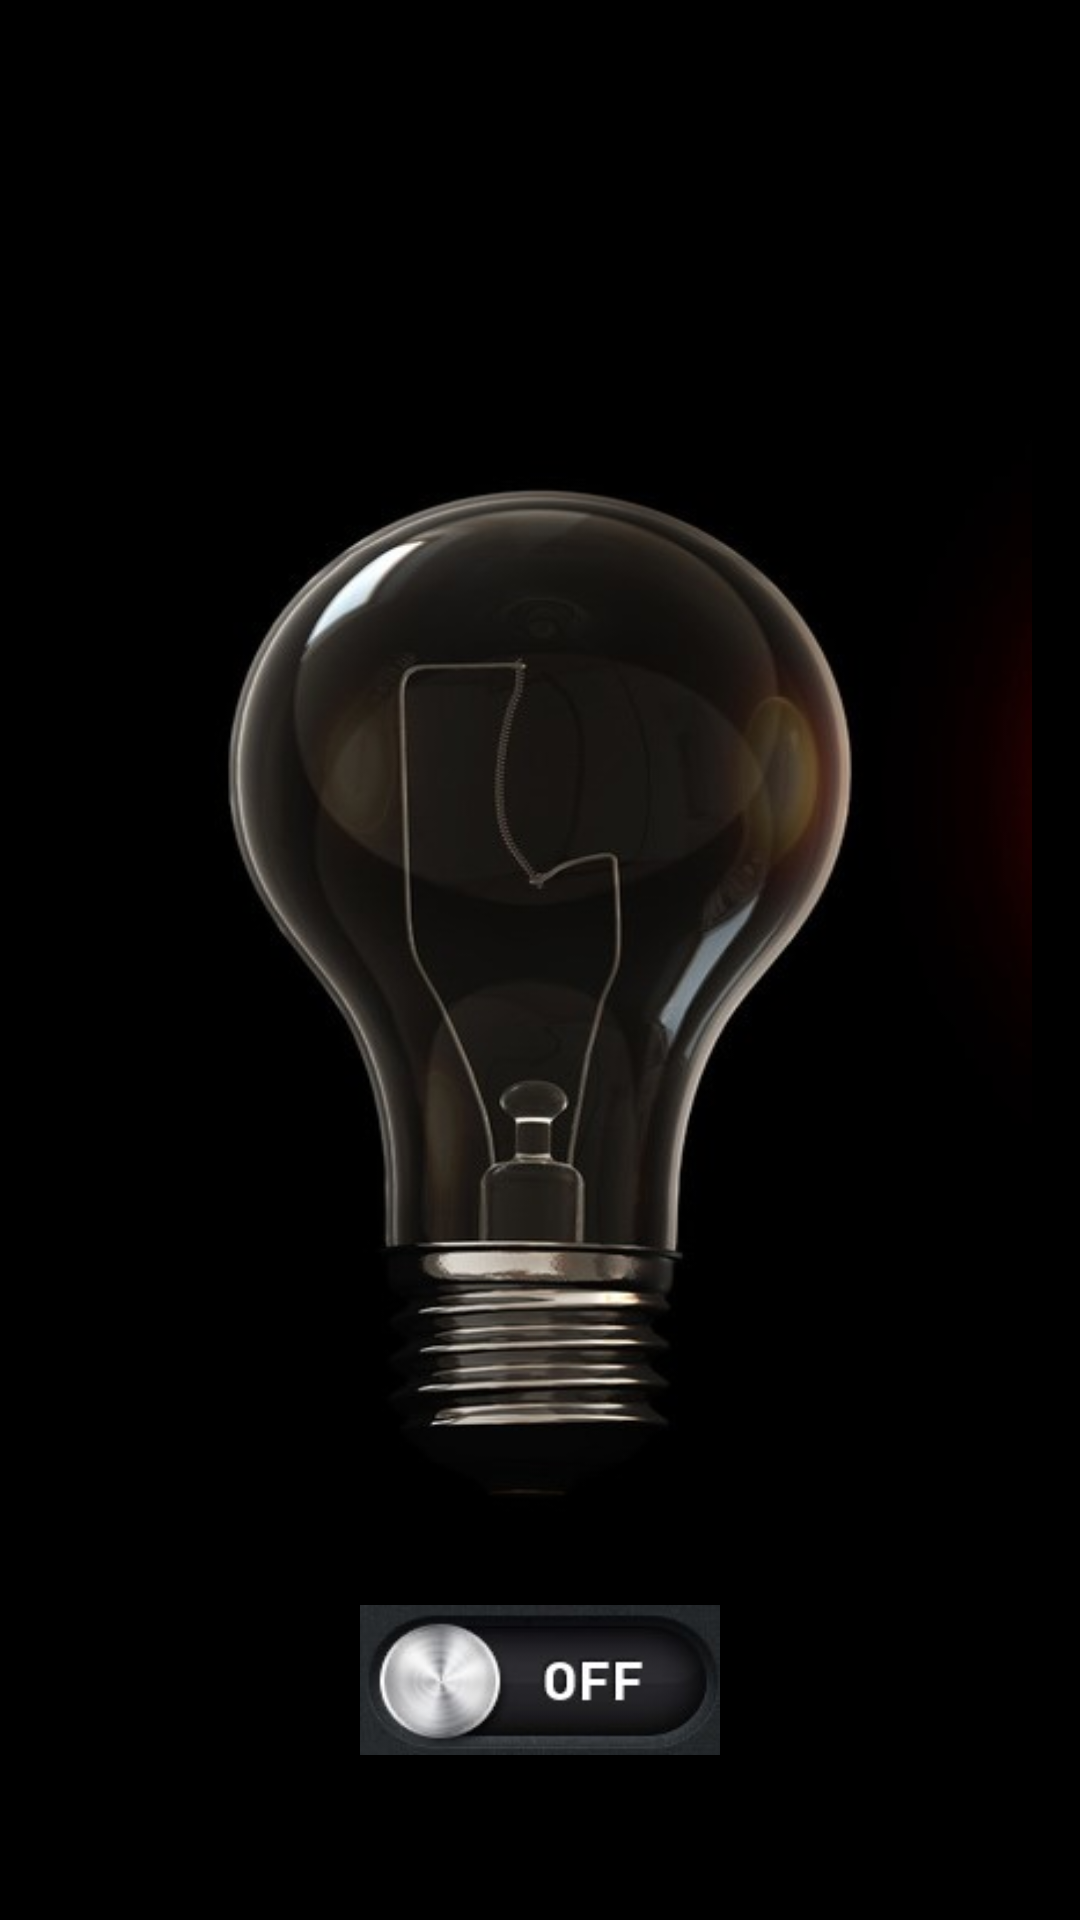

Screen size 1080*1920. Icon name, then its box in pixels as (x1, y1, x2, y2):
tbutton: (360, 1605, 720, 1755)
